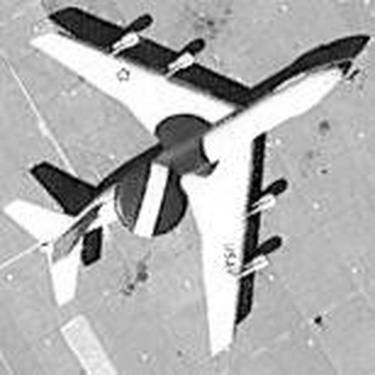airplane: (5, 8, 359, 363)
